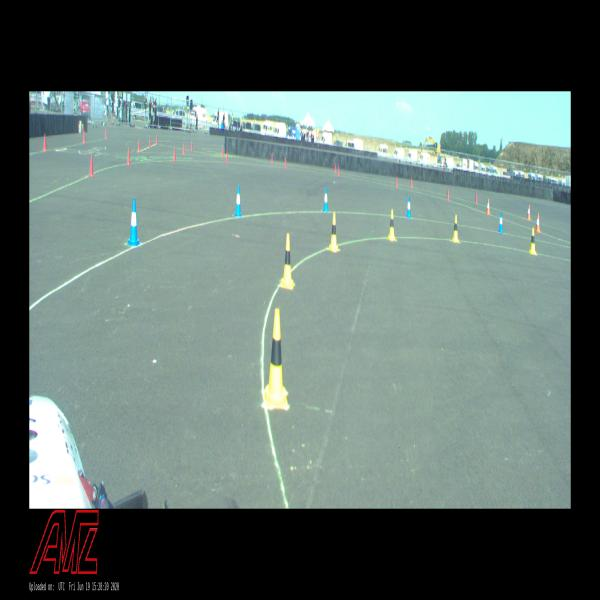blue_cone: (126, 198, 140, 246), (234, 185, 242, 217), (322, 187, 328, 211), (406, 196, 411, 218), (498, 212, 503, 233)
orange_cone: (535, 214, 541, 233), (486, 199, 491, 214), (527, 205, 531, 220)
unknown_cone: (88, 154, 94, 177), (43, 134, 47, 150), (127, 147, 130, 165), (82, 130, 86, 143), (173, 147, 176, 161), (395, 176, 398, 188), (410, 177, 413, 187), (447, 188, 449, 201), (138, 140, 140, 152), (226, 151, 228, 163), (284, 158, 286, 169), (475, 192, 477, 203), (105, 128, 107, 138), (149, 137, 151, 147), (183, 144, 185, 154), (190, 141, 192, 151), (222, 148, 224, 158), (271, 153, 273, 163), (338, 166, 340, 176), (156, 135, 157, 144), (335, 163, 336, 172)
yellow_cone: (264, 309, 288, 408), (280, 234, 295, 290), (328, 213, 338, 251), (388, 209, 396, 241), (452, 215, 459, 242), (529, 228, 536, 254)
